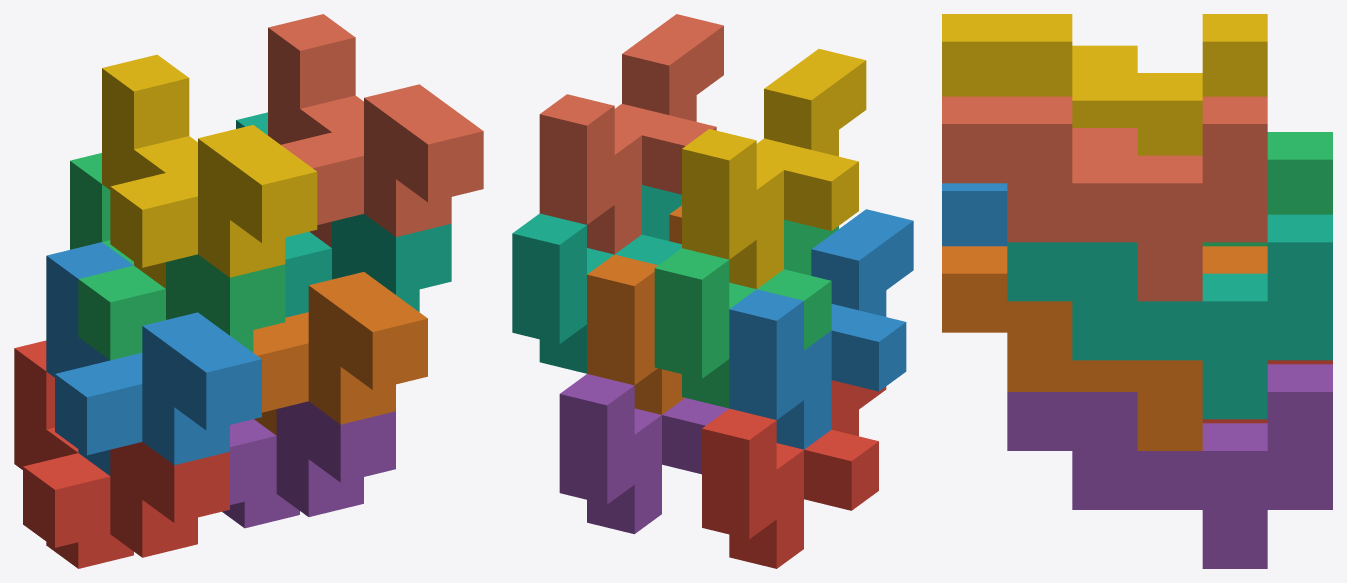
File: tiling.obj
The picture shows the model from 3 angles, left to right: view 1: azimuth 30°, elevation 25°; view 2: azimuth 150°, elevation 25°; view 3: azimuth 270°, elevation 25°; orthographic projection. The views are drawn at different scales.
Parts seen in each view (by area): view 1: copy_1_domain_4, copy_1_domain_8, copy_1_domain_2, copy_1_domain_1, copy_1_domain_6, copy_1_domain_3, copy_1_domain_5, copy_1_domain_7; view 2: copy_1_domain_4, copy_1_domain_2, copy_1_domain_8, copy_1_domain_1, copy_1_domain_5, copy_1_domain_3, copy_1_domain_7, copy_1_domain_6; view 3: copy_1_domain_8, copy_1_domain_7, copy_1_domain_5, copy_1_domain_4, copy_1_domain_6, copy_1_domain_3, copy_1_domain_2, copy_1_domain_1.
Boxes of the visible parts, <box> form: copy_1_domain_4: <box>102,54,317,288</box>; copy_1_domain_8: <box>268,14,483,247</box>; copy_1_domain_2: <box>46,242,261,475</box>; copy_1_domain_1: <box>14,340,229,568</box>; copy_1_domain_6: <box>253,272,427,435</box>; copy_1_domain_3: <box>70,153,285,360</box>; copy_1_domain_5: <box>222,401,395,528</box>; copy_1_domain_7: <box>236,112,451,317</box>; copy_1_domain_4: <box>682,49,866,289</box>; copy_1_domain_2: <box>729,209,913,449</box>; copy_1_domain_8: <box>539,14,723,254</box>; copy_1_domain_1: <box>702,380,886,568</box>; copy_1_domain_5: <box>559,374,728,534</box>; copy_1_domain_3: <box>654,219,838,408</box>; copy_1_domain_7: <box>512,185,681,373</box>; copy_1_domain_6: <box>587,205,684,414</box>; copy_1_domain_8: <box>942,96,1267,301</box>; copy_1_domain_7: <box>1007,214,1332,419</box>; copy_1_domain_5: <box>1007,364,1332,568</box>; copy_1_domain_4: <box>942,14,1267,155</box>; copy_1_domain_6: <box>942,246,1267,450</box>; copy_1_domain_3: <box>1202,132,1332,246</box>; copy_1_domain_2: <box>942,183,1007,246</box>; copy_1_domain_1: <box>1202,360,1332,423</box>.
Bounding box in the file's own units: 6 × 8 × 6.
